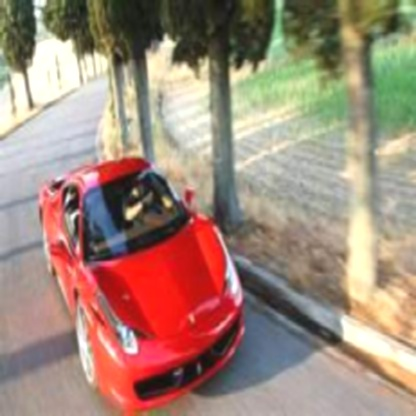Vehicle: (37, 157, 251, 414)
